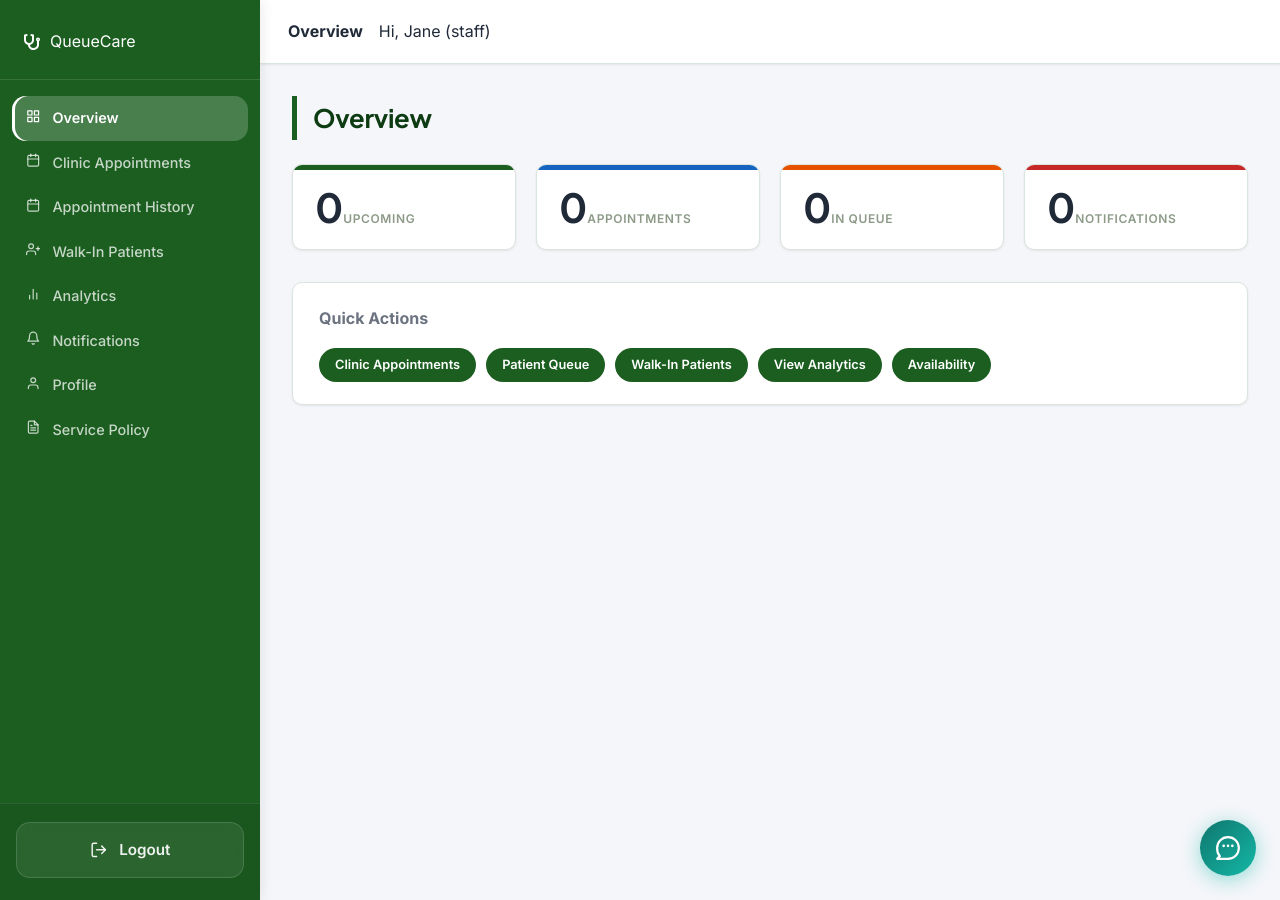
Test: Clicked Profile › renders ProfilePage when Profile nav button is clicked
Click the button "Profile" at (130, 385), box [12,363,248,408]
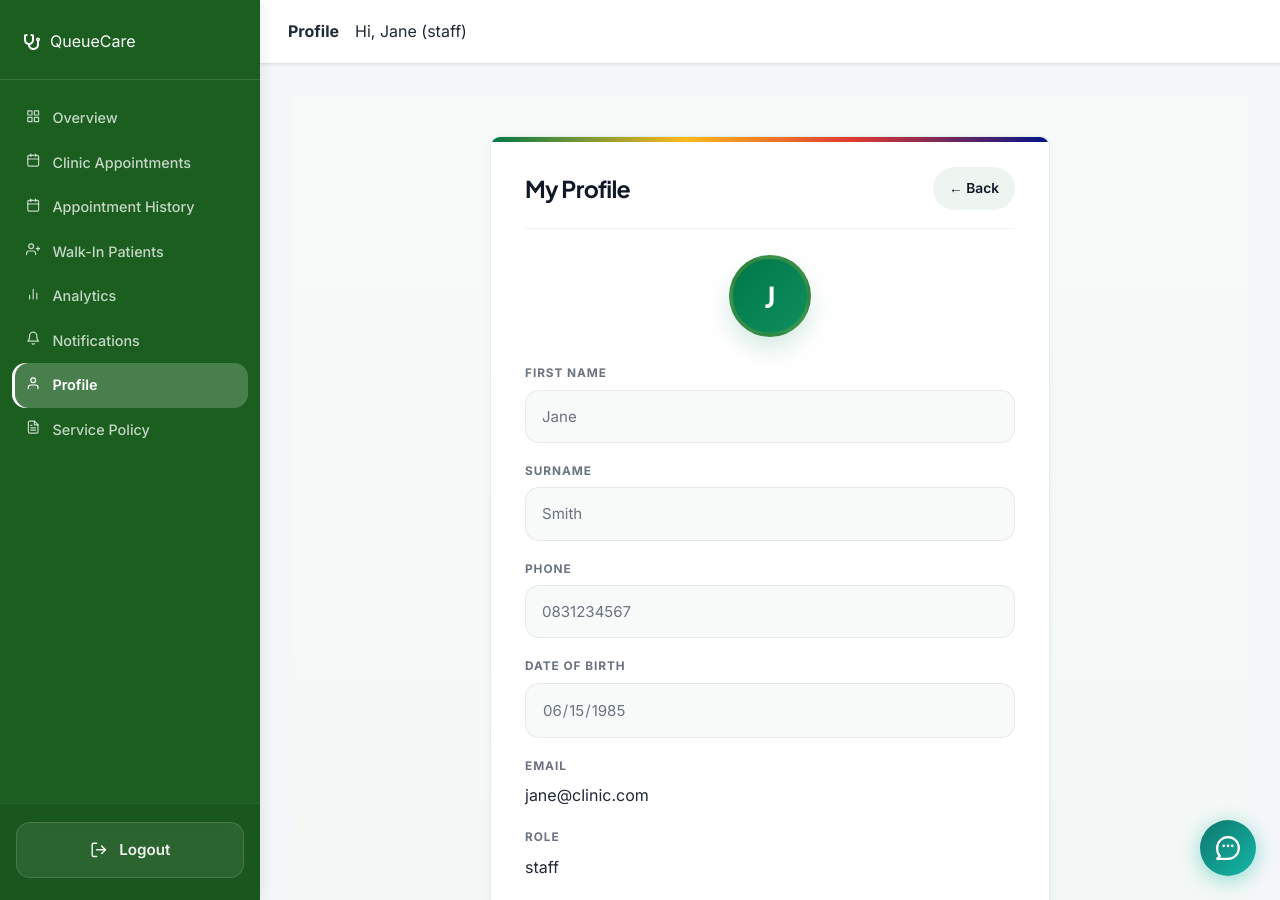
Check: the heading "Profile" is shown, box [288,18,339,45]
